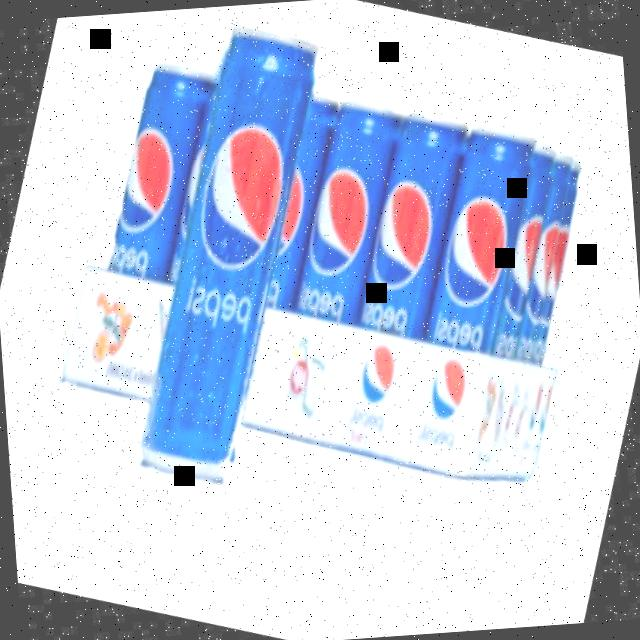can: (114, 44, 336, 485), (352, 128, 470, 342), (286, 124, 406, 322), (424, 142, 534, 352), (103, 80, 208, 270), (480, 171, 561, 351), (506, 180, 580, 358), (260, 127, 333, 304), (524, 196, 586, 360)
